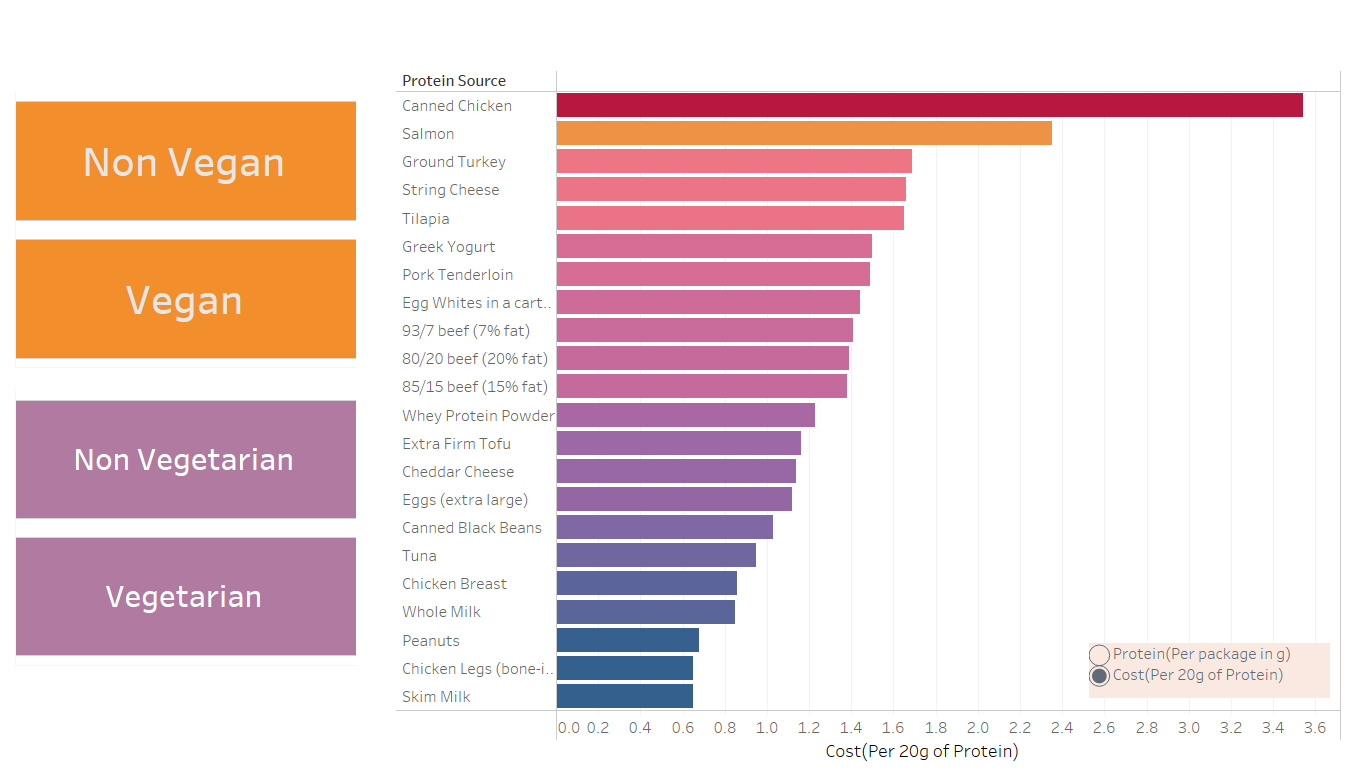

What the dashboard file says about the page in this screenshot:
{"tool":"tableau","page":{"name":"Ways of getting Protein","canvas":[1366,768],"ordinal":0},"visuals":[{"type":"worksheet","title":"Cost/Protein Content analysis ","mark":"Automatic","rows":["Protein Source"],"cols":["Calculation_1130966484206854151"],"box":[396,56,945,685]},{"type":"worksheet","title":"Vegan or not filter","mark":"Automatic","rows":["Calculation_1130966484200226816"],"cols":["Calculation_1130966484203282435"],"box":[11,73,349,298]},{"type":"worksheet","title":"Vegetarian or not filter","mark":"Automatic","rows":["Calculation_1130966484204371972"],"cols":["Calculation_1130966484204703750"],"box":[11,371,349,298]},{"type":"parameter","param":"[Parameters].[Parameter 1]","box":[1089,643,241,55]},{"type":"text","box":[822,733,209,35]}]}

Visuals, with their boxes in screenshot pixels (x1, y1, x2, y2), scaled from the page's 1366x768 canvas onto the 1366x768 screenshot:
"Cost/Protein Content analysis " worksheet: {"x1": 396, "y1": 56, "x2": 1341, "y2": 741}
"Vegan or not filter" worksheet: {"x1": 11, "y1": 73, "x2": 360, "y2": 371}
"Vegetarian or not filter" worksheet: {"x1": 11, "y1": 371, "x2": 360, "y2": 669}
parameter: {"x1": 1089, "y1": 643, "x2": 1330, "y2": 698}
text: {"x1": 822, "y1": 733, "x2": 1031, "y2": 767}
